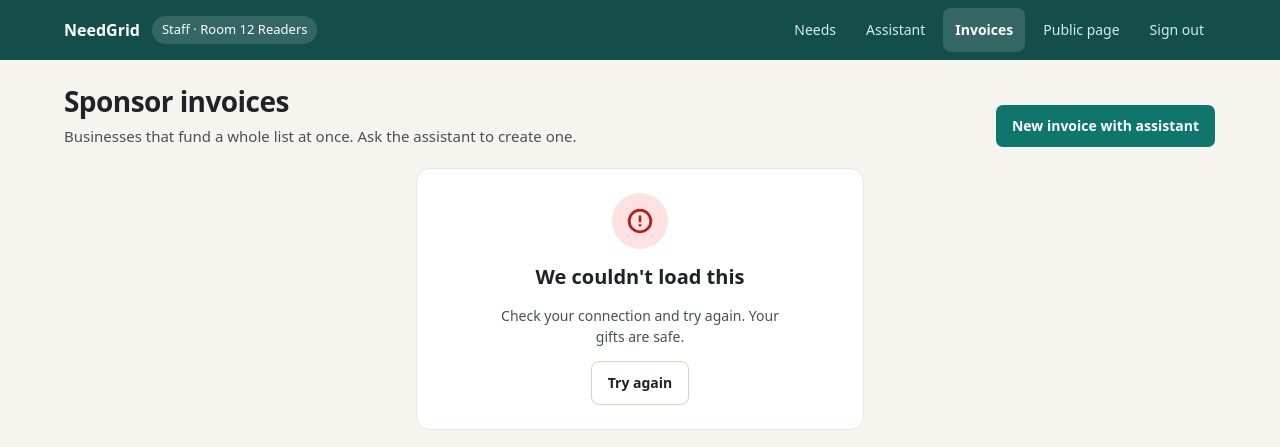
Invoices page /staff/invoices › shows an error with Try again, then the list
Expected: the heading "Sponsor invoices" is shown, left=64, top=82, right=289, bottom=120
Click the button "Try again" at (640, 382), box left=591, top=360, right=689, bottom=404
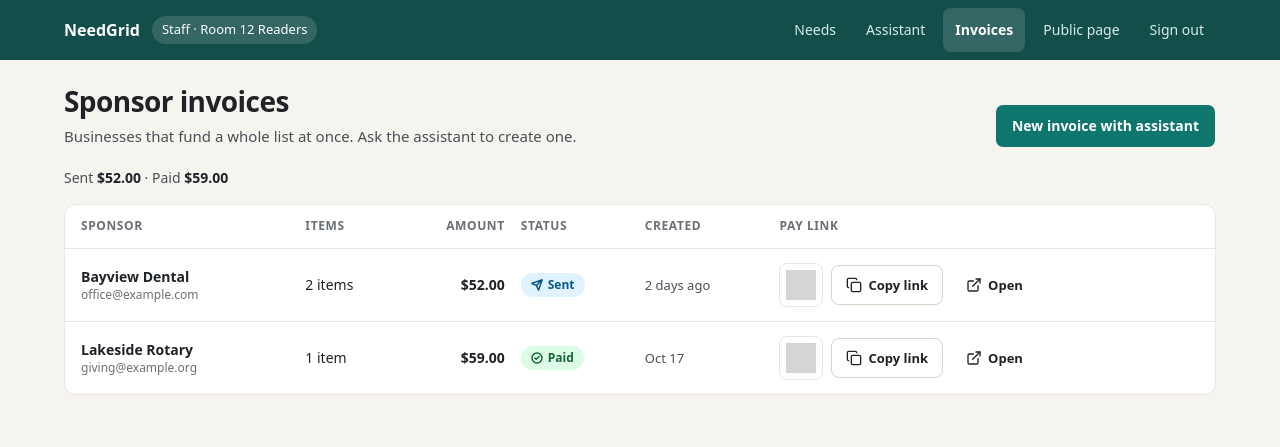
Expected: the row "Bayview Dental" is shown, left=65, top=248, right=1215, bottom=322
